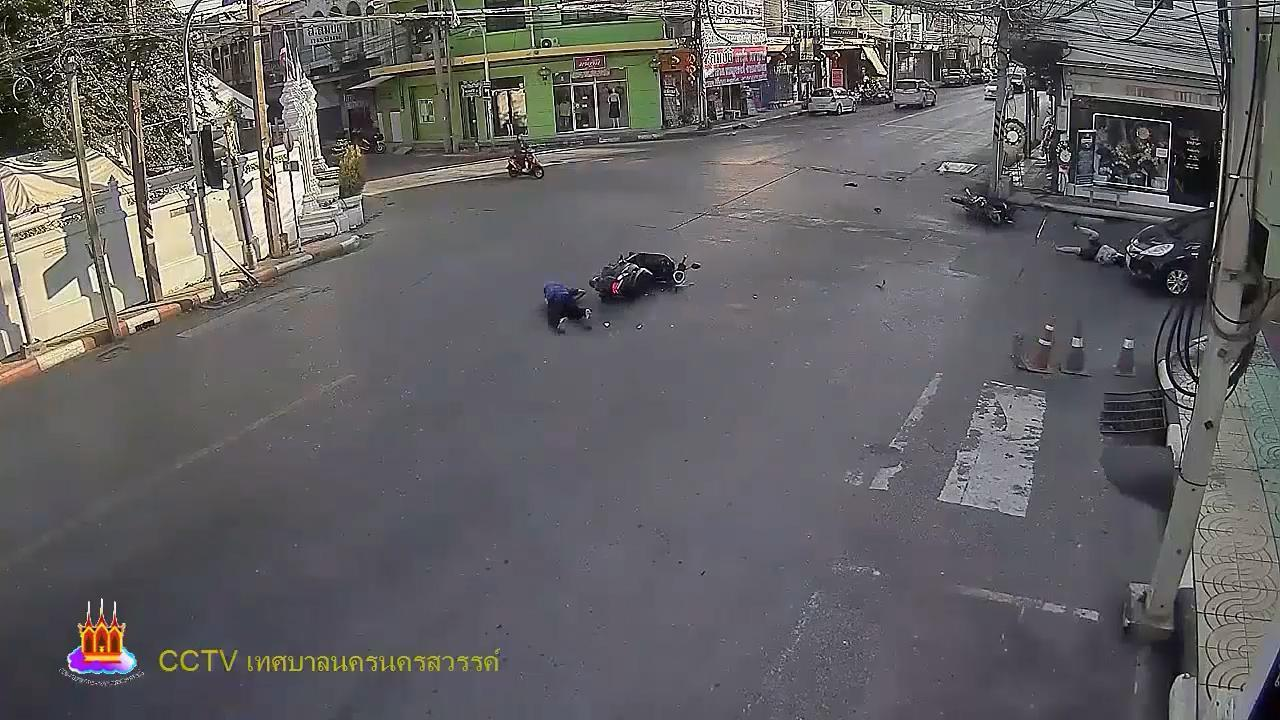accident: (1055, 218, 1131, 273), (539, 281, 596, 335)
